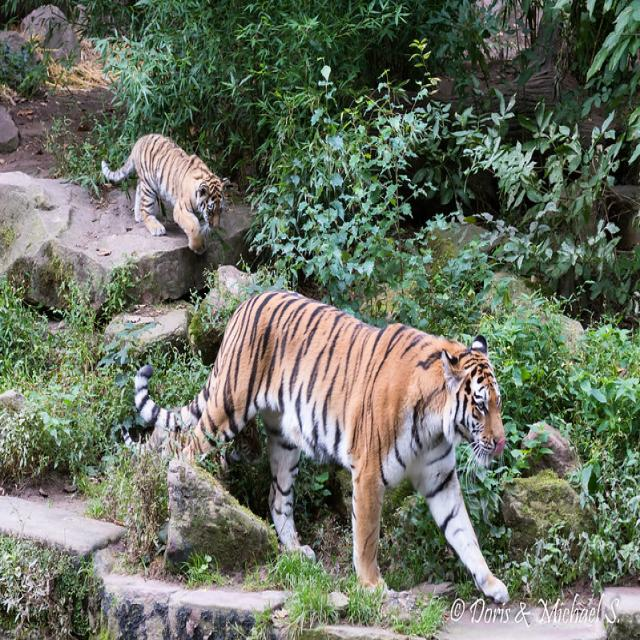Tiger: (151, 274, 523, 610), (96, 122, 235, 262)
